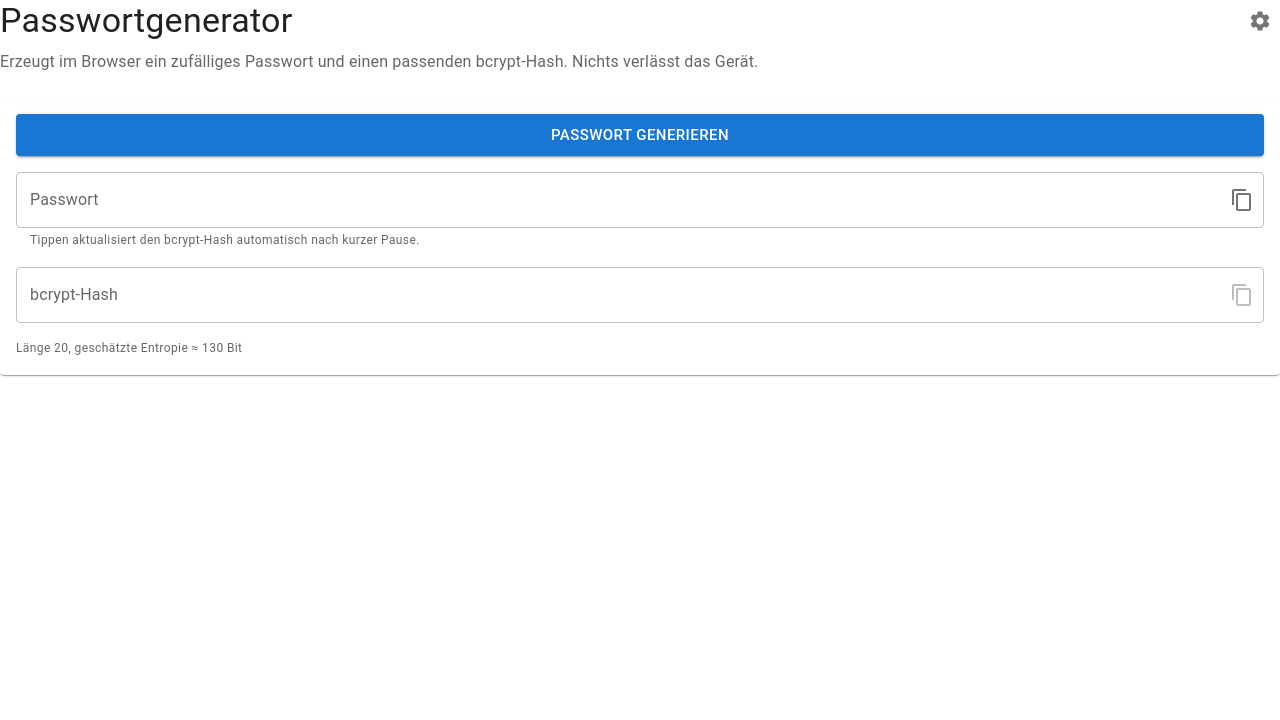
it: PasswordPage › disables Generate and shows a hint when all character classes are off
# Open settings drawer
Click the button named "Einstellungen öffnen": (1260, 21) [1240,1,1279,41]
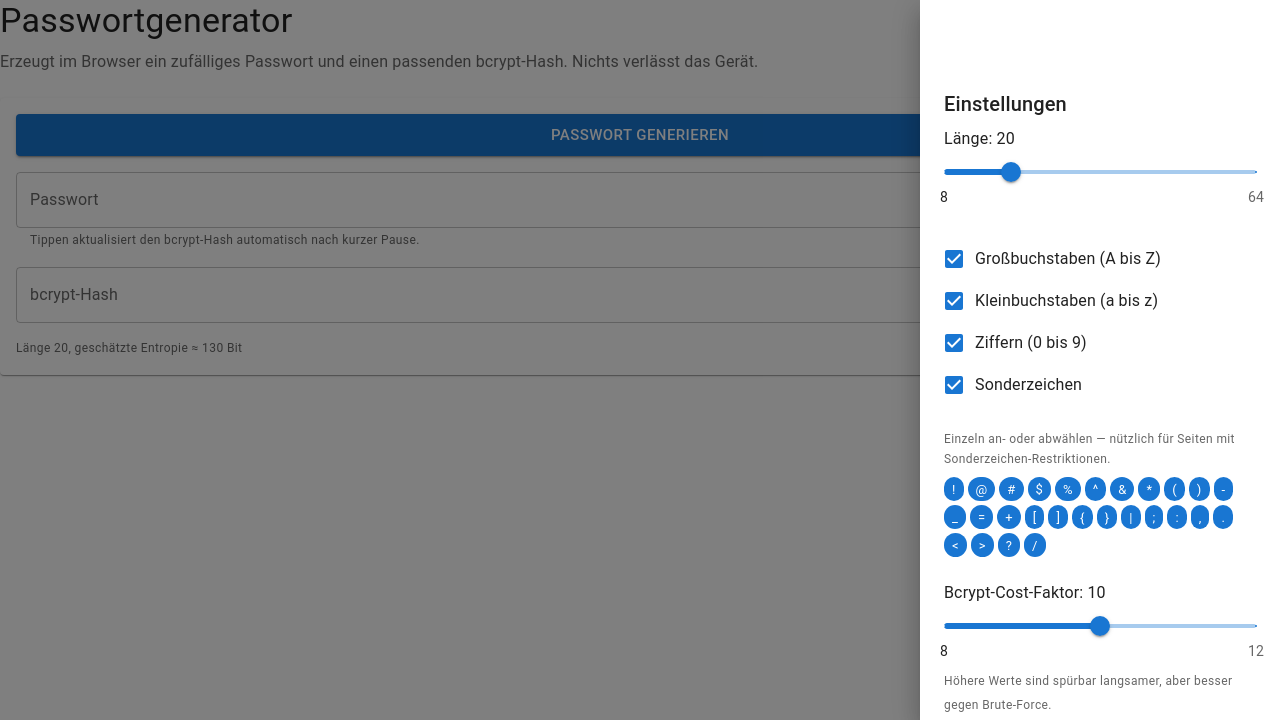
# Disable all four classes
Click the checkbox labelled "Großbuchstaben (A bis Z)": (1052, 259) [942,247,1161,271]
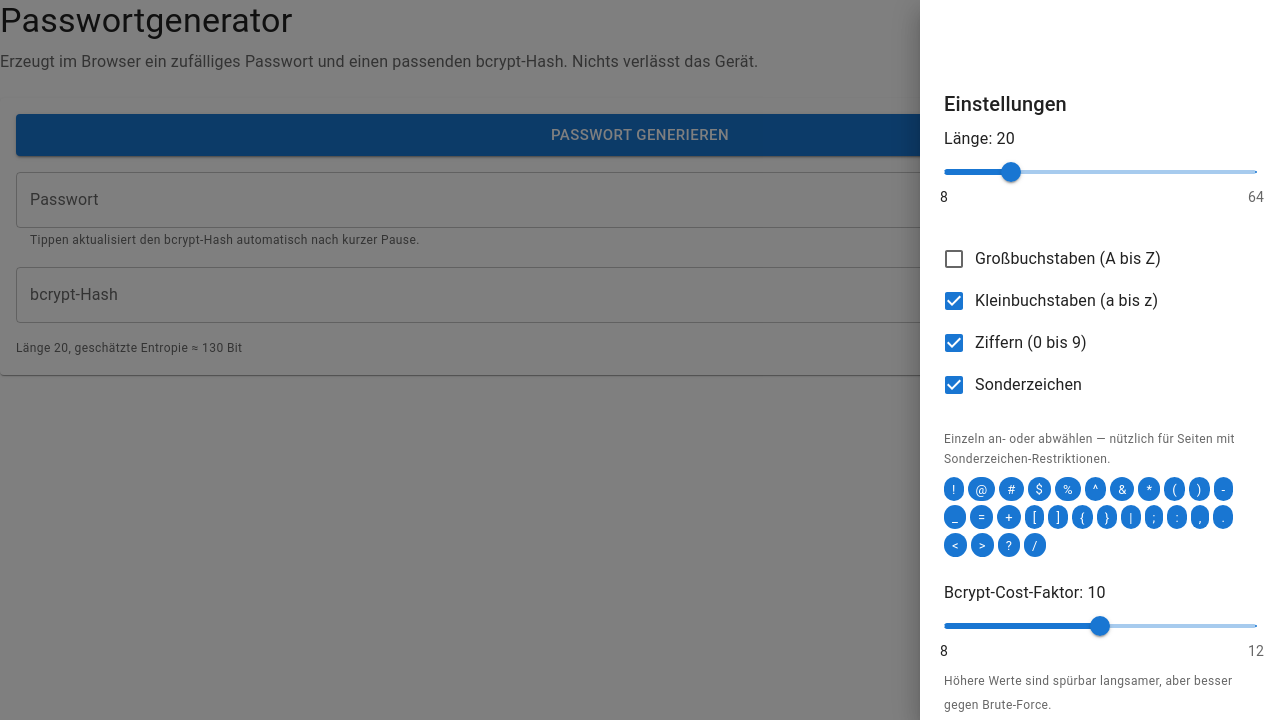
Click the checkbox labelled "Kleinbuchstaben (a bis z)": (1050, 301) [942,289,1158,313]
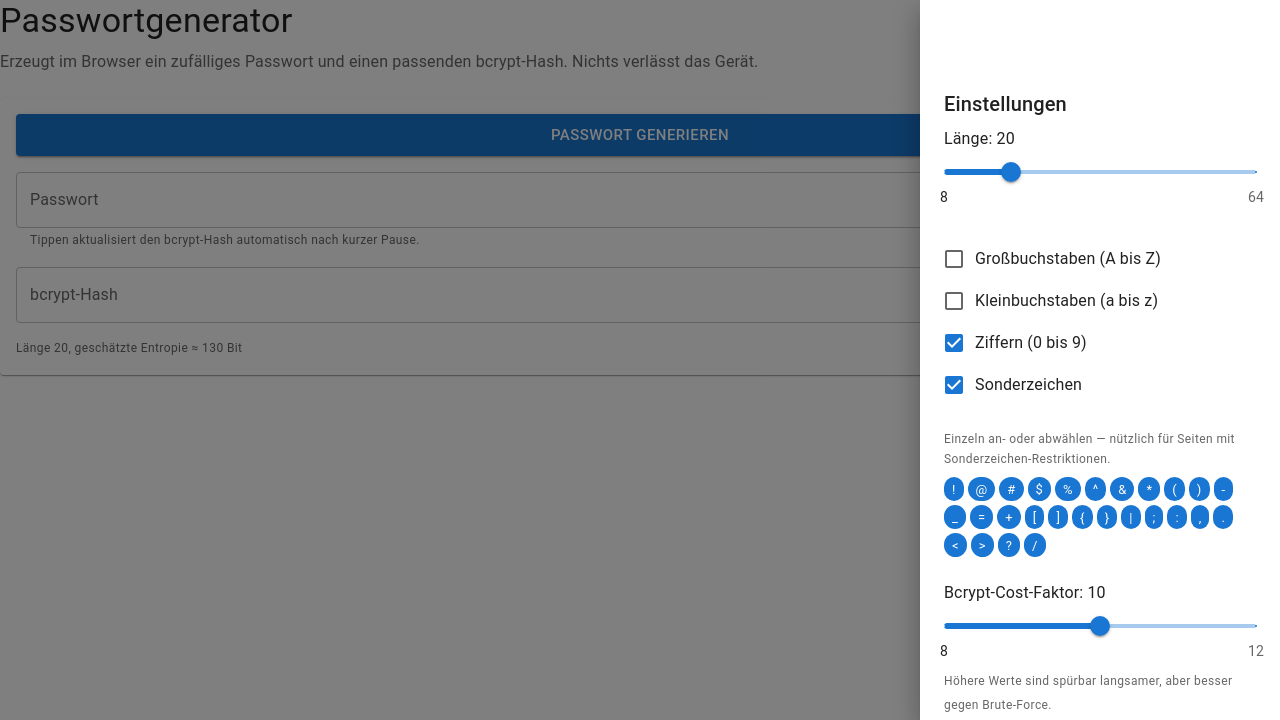
Click the checkbox labelled "Ziffern (0 bis 9)": (1014, 343) [942,331,1087,355]
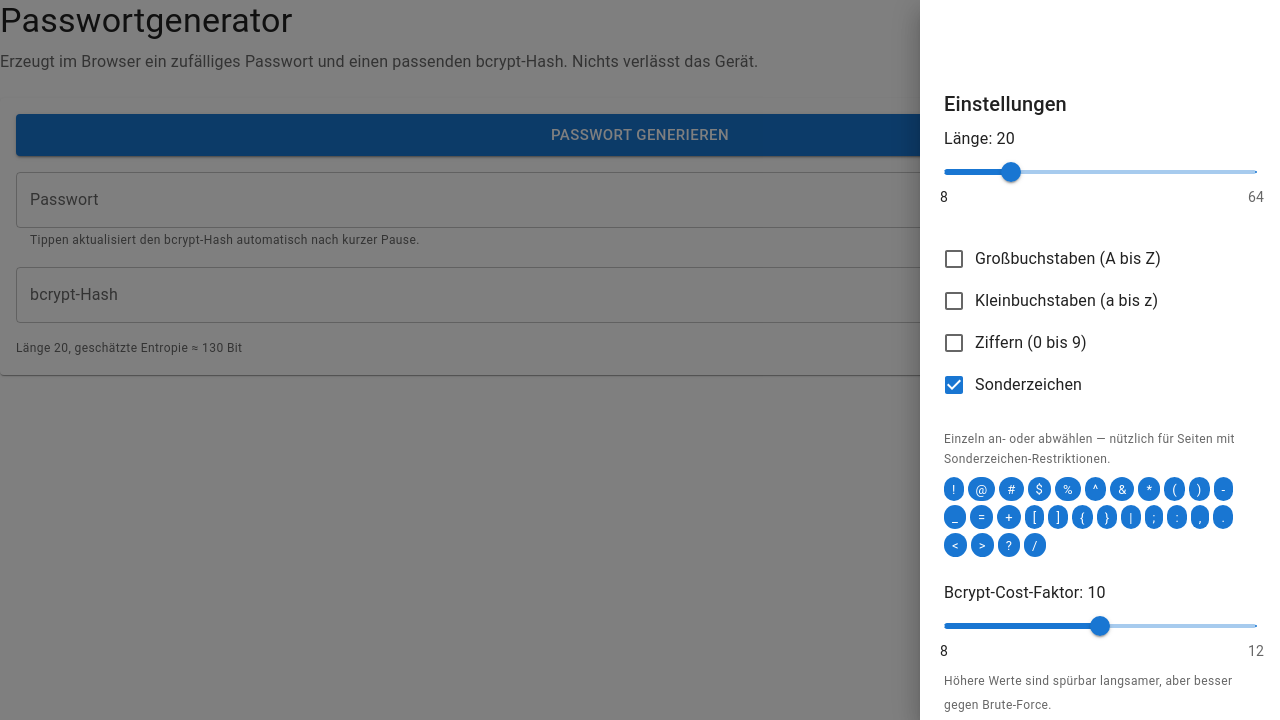
Click the checkbox labelled "Sonderzeichen": (1012, 385) [942,373,1082,397]
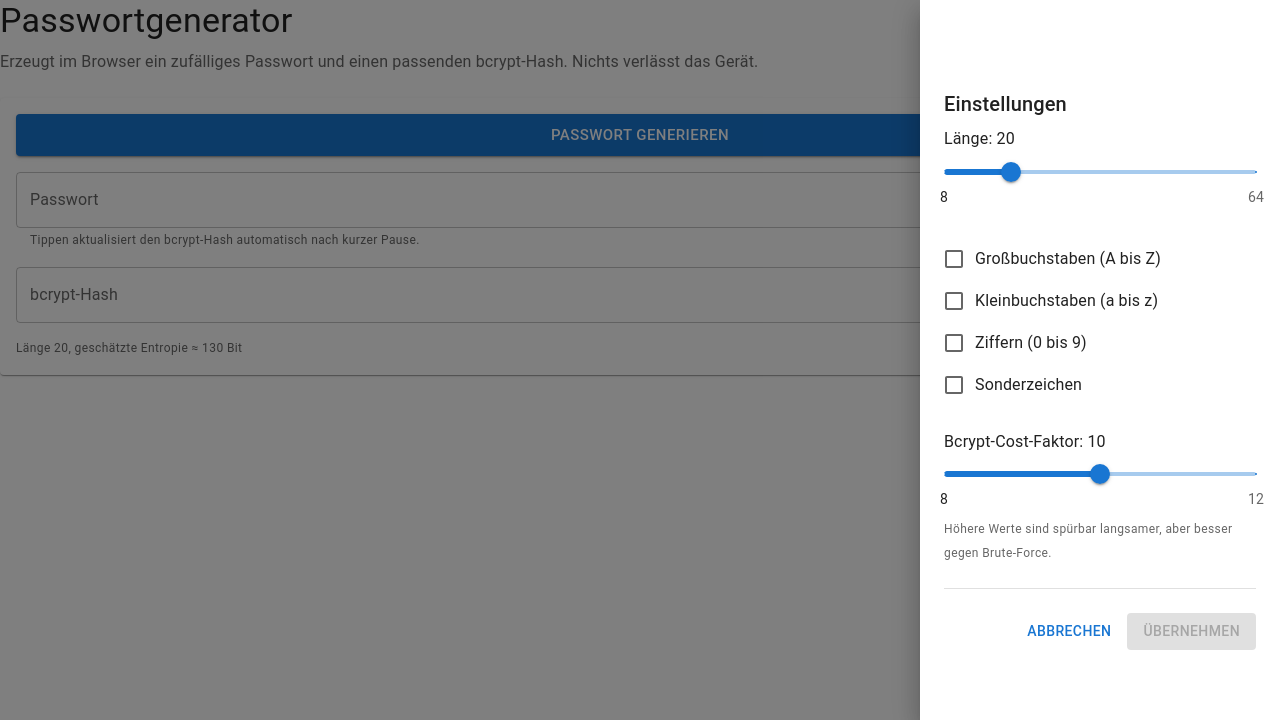
Now the button "Übernehmen" is disabled, box [1127,613,1256,650]
